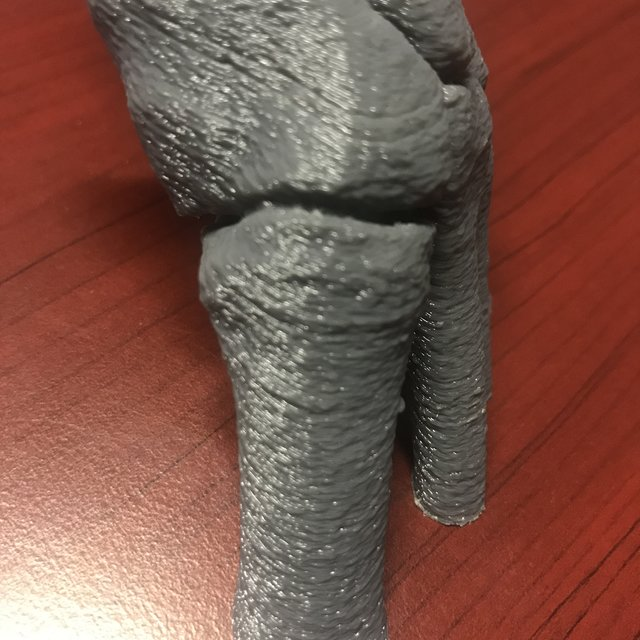blob: (251, 241, 356, 618), (141, 15, 351, 142)
